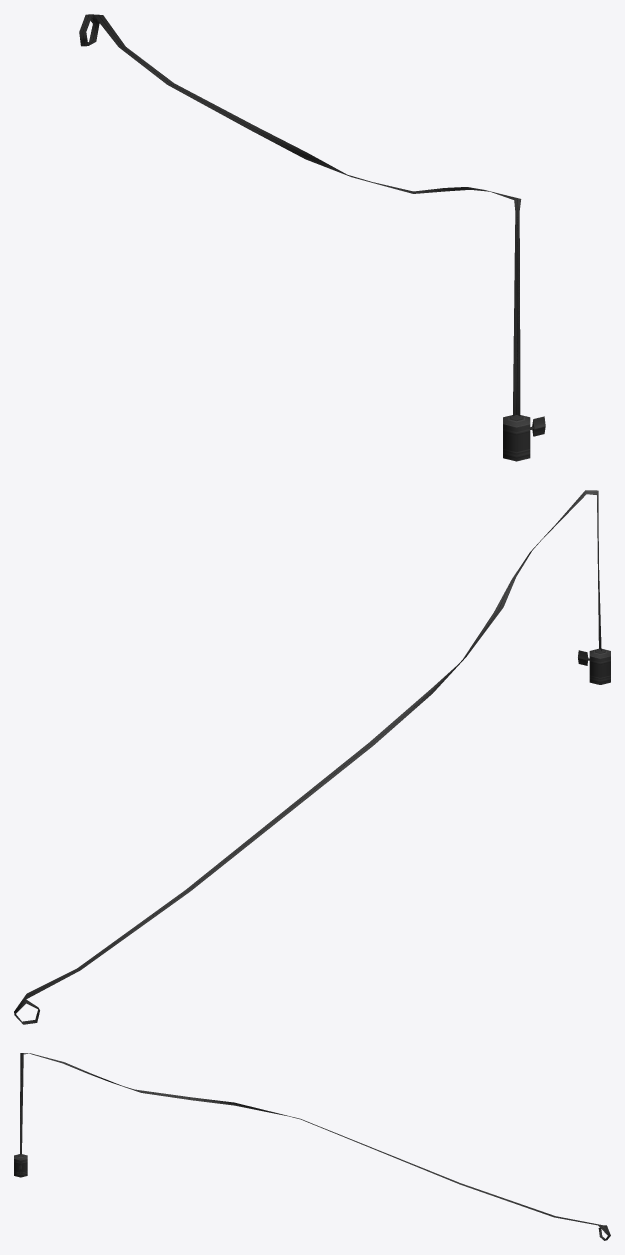
Rendered from jsf_4P_Light_s01_b.fbx.
3 views of the same model, one above another, from view 1: azimuth 30°, elevation 25°; view 2: azimuth 150°, elevation 25°; view 3: azimuth 270°, elevation 25° (orthographic). The views are drawn at different scales.
Parts seen in each view (by area): view 1: jsf_4P_Light_s01_b; view 2: jsf_4P_Light_s01_b; view 3: jsf_4P_Light_s01_b.
Boxes of the visible parts, left/top/right/bottom form: jsf_4P_Light_s01_b: left=79, top=14, right=545, bottom=461; jsf_4P_Light_s01_b: left=14, top=490, right=610, bottom=1024; jsf_4P_Light_s01_b: left=14, top=1053, right=610, bottom=1240.
Size of the model in its own units: 22.03 by 34.63 by 124.
